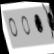correct: (32, 10, 45, 35)
not correct: (41, 2, 54, 44)
